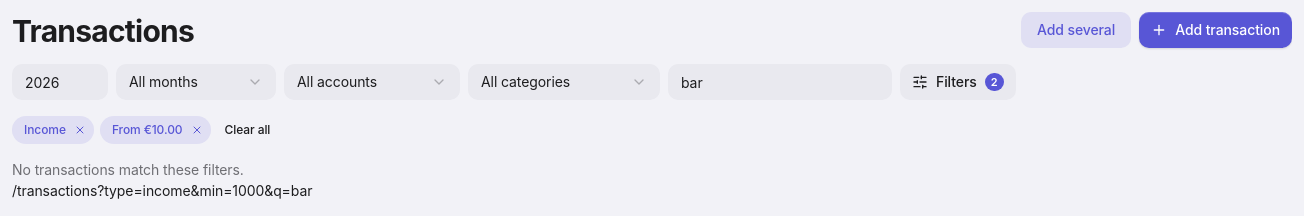
Test case: Transactions page › removes one chip, or all of them
The image size is (1304, 216).
Click the button named "Remove filter: Income" at (80, 130), box [70,120,90,140]
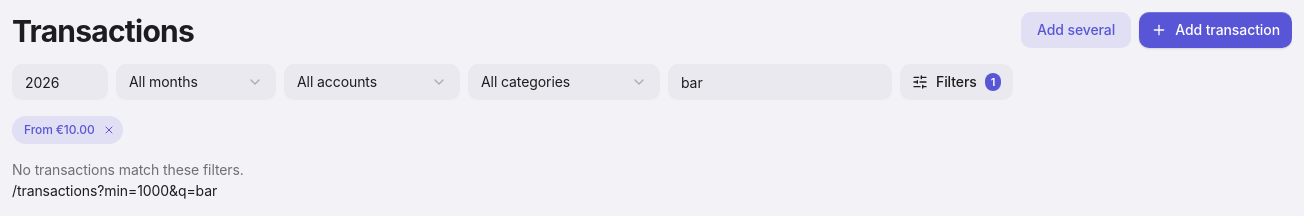
Check: the text with test id "location" reads "/transactions?min=1000&q=bar", box [12,182,217,199]
Click the button named "Remove filter: From €10.00" at (109, 130), box [99,120,119,140]
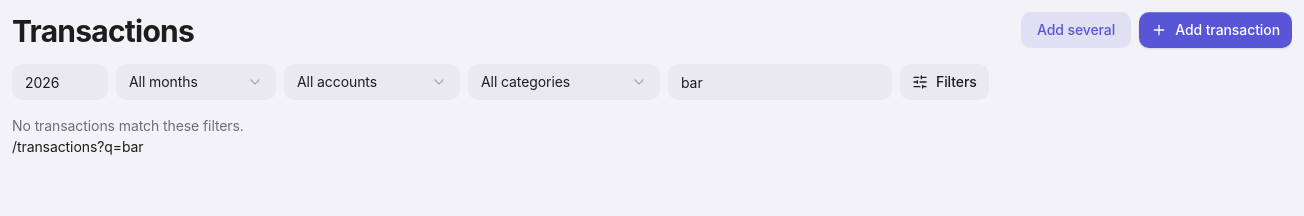
Check: the text with test id "location" reads "/transactions?q=bar", box [12,138,144,155]
